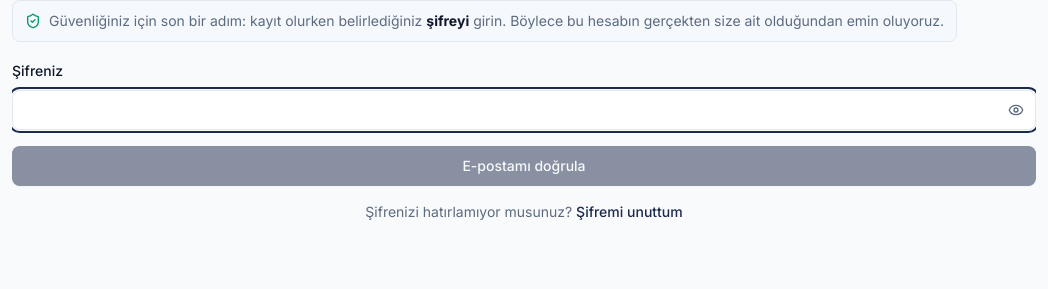
Test: F5 — e-posta doğrulama: geçerli bağlantıda hiçbir işlem yapılmadan hata gösterilmez › KONTROL — ağ hatasında metin GÖRÜNÜR ve şifre alanı hataya bağlanır
Type "sifre12345" into the password field labelled "Şifreniz".
click(524, 110); type("sifre12345")  # box x1=12 y1=90 x2=1036 y2=130
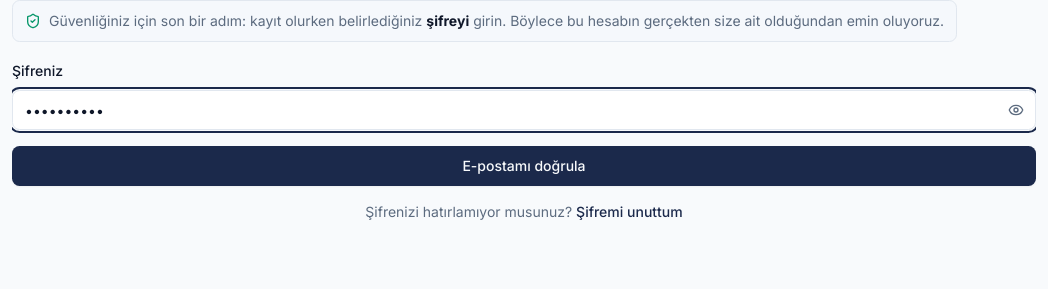
Submit the form named "Şifreniz"
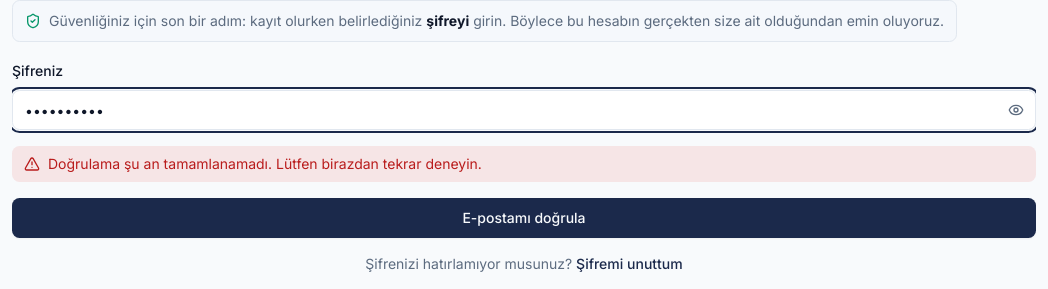
Check: the text "Doğrulama şu an tamamlanamadı" is shown, box x1=48 y1=155 x2=482 y2=172
